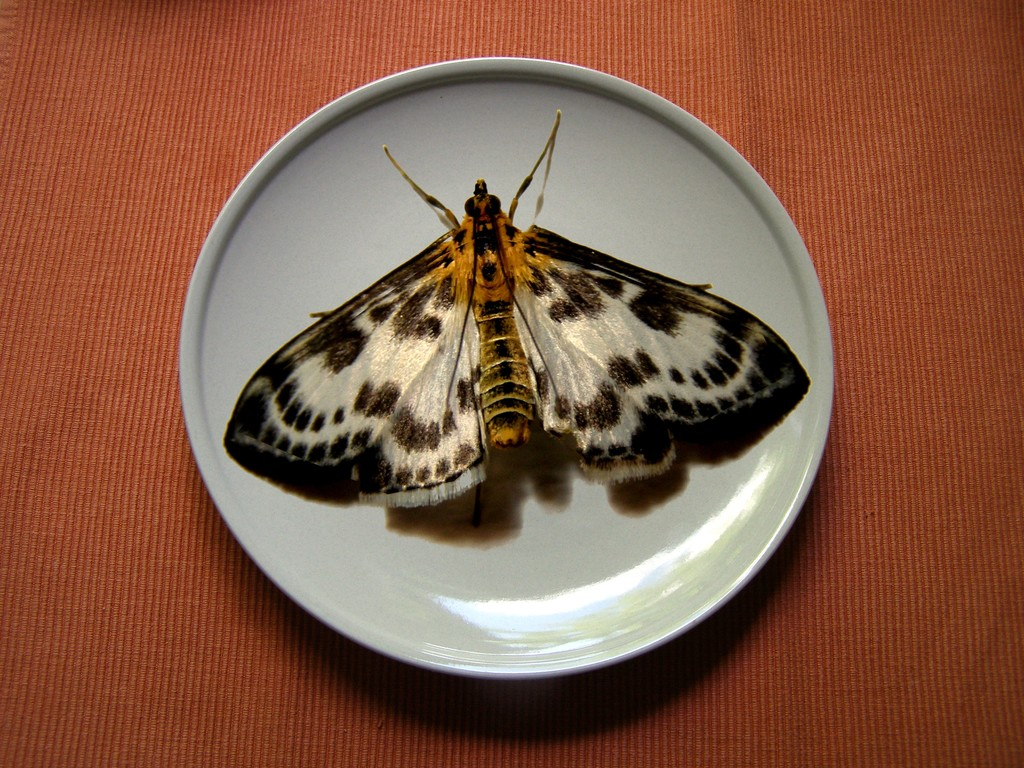Butterfly: (230, 147, 820, 574)
